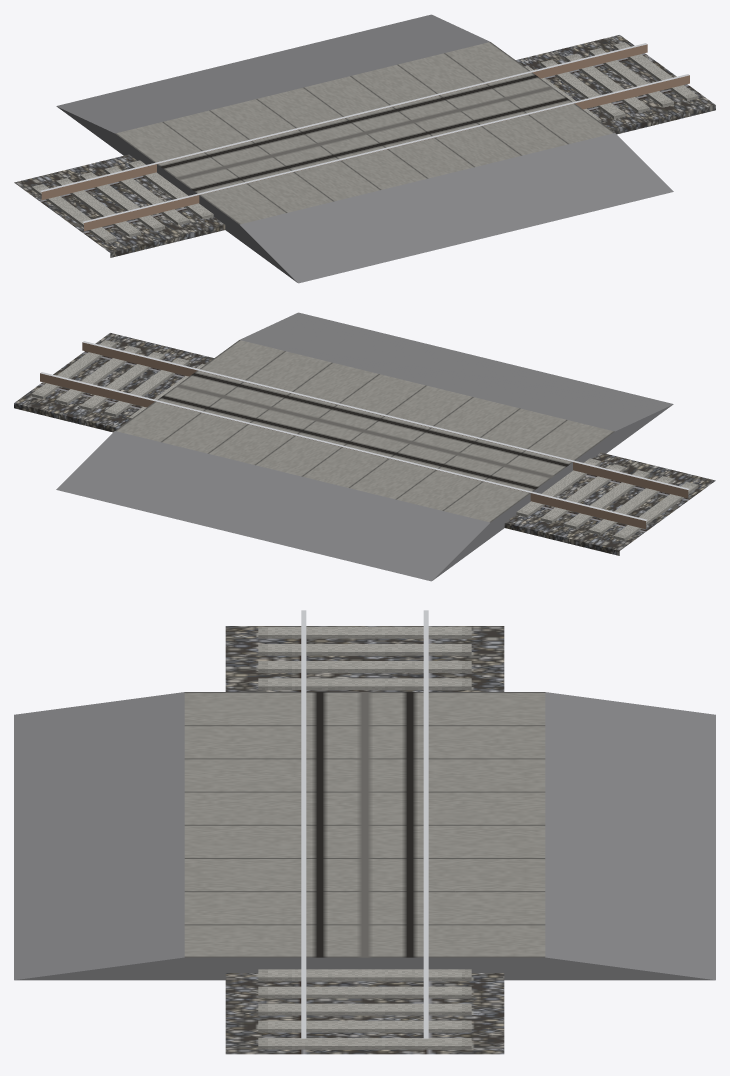
The model's file is kolej_prejezd_beton_siroka.glb.
3 views of the same model, one above another, from view 1: azimuth 30°, elevation 25°; view 2: azimuth 150°, elevation 25°; view 3: azimuth 270°, elevation 25° (orthographic). The views are drawn at different scales.
Parts seen in each view (by area): view 1: kolej_prejezd_beton_siroka; view 2: kolej_prejezd_beton_siroka; view 3: kolej_prejezd_beton_siroka.
Part boxes in pixels (x1=…): kolej_prejezd_beton_siroka: x1=14, y1=14, x2=715, y2=283; kolej_prejezd_beton_siroka: x1=14, y1=312, x2=715, y2=581; kolej_prejezd_beton_siroka: x1=14, y1=610, x2=715, y2=1054.
Bounding box in the file's own units: 14.84 × 0.373 × 10.28.
Materials: 6 (3 with a texture image).
